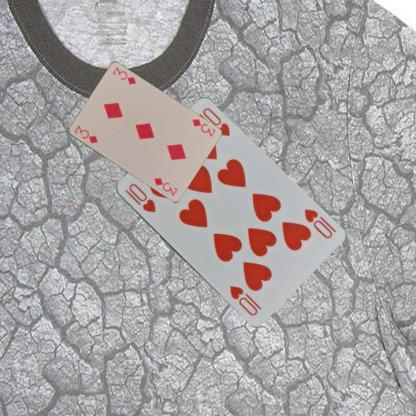10h: (121, 180, 156, 214), (300, 206, 334, 240)
3d: (72, 122, 98, 145), (189, 116, 216, 138)
